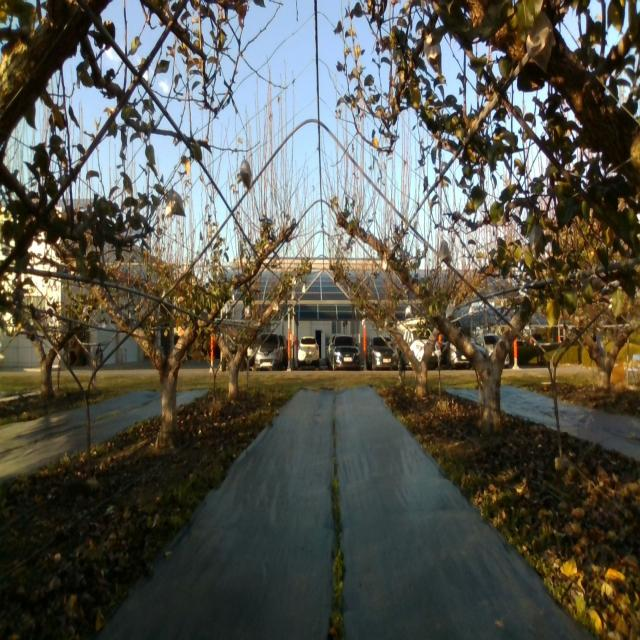pearbags: (423, 33, 442, 78), (164, 189, 186, 218), (240, 156, 253, 192), (438, 240, 452, 267)
